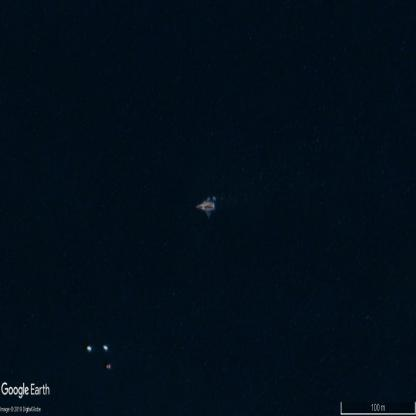ship: (196, 200, 215, 213), (87, 346, 91, 350), (104, 346, 108, 350), (106, 364, 110, 368)
